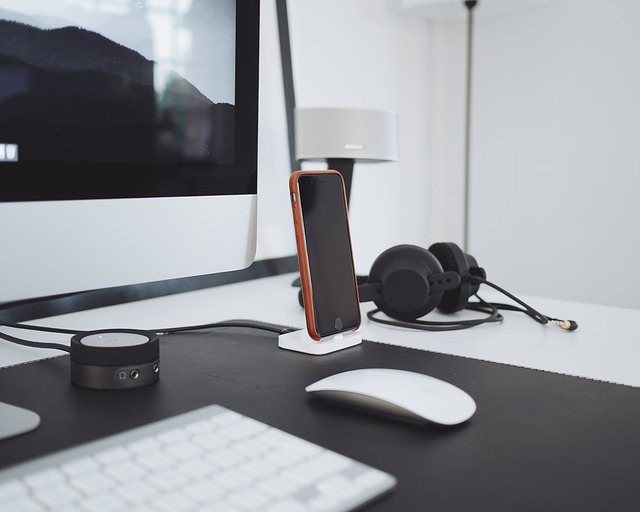headphones: (298, 242, 487, 322)
